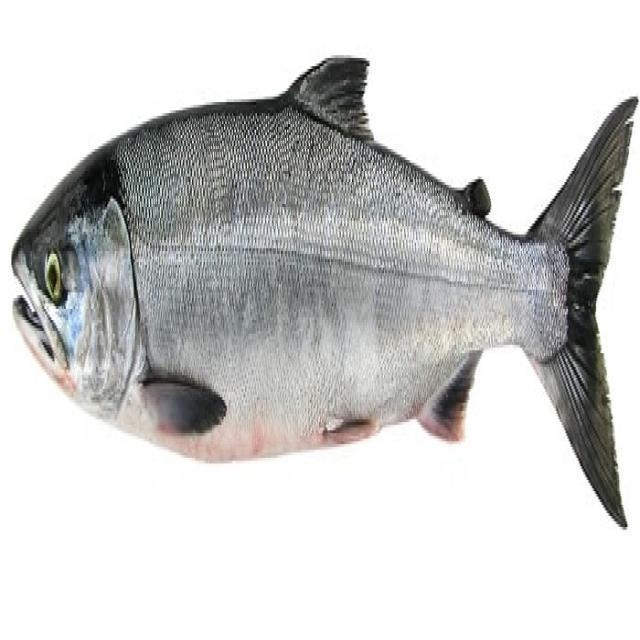grouper: (14, 46, 638, 560)
